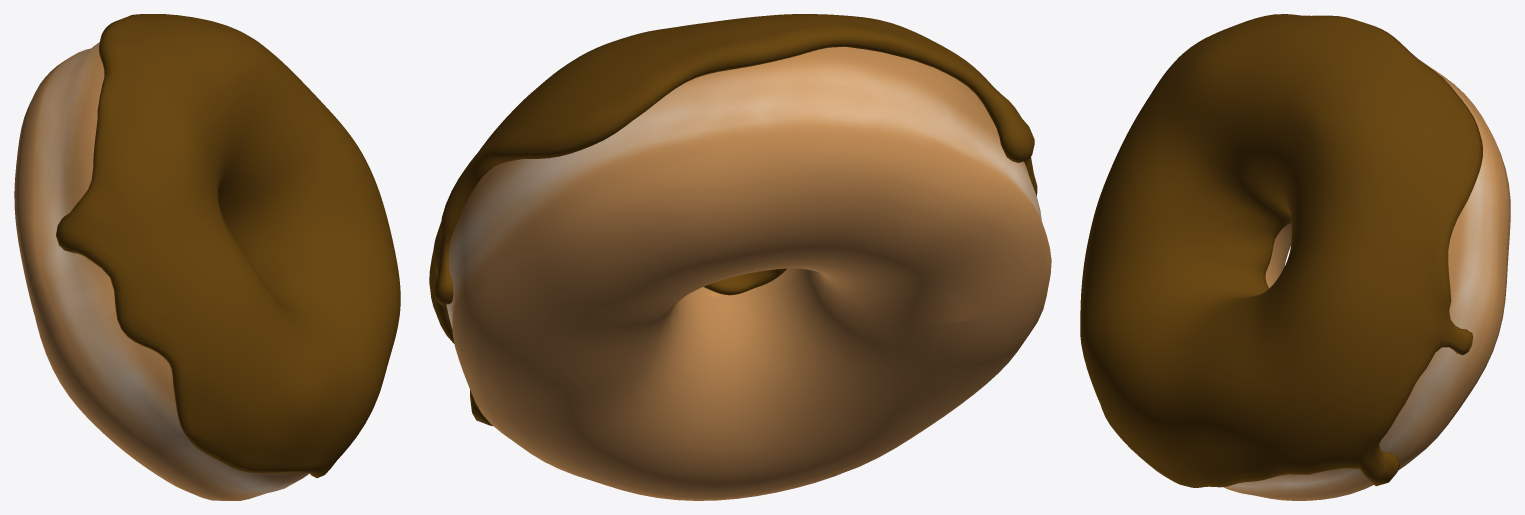
The model's file is Donut1.gltf.
The picture shows the model from 3 angles, left to right: view 1: azimuth 30°, elevation 25°; view 2: azimuth 150°, elevation 25°; view 3: azimuth 270°, elevation 25°; orthographic projection. The views are drawn at different scales.
Visible parts, largest first — view 1: Icing, Donut; view 2: Donut, Icing; view 3: Icing, Donut.
Part boxes in pixels (box(x1,y1,x2,y2)): Icing: box(56, 14, 400, 477); Donut: box(14, 42, 308, 500); Donut: box(446, 46, 1051, 500); Icing: box(429, 14, 1037, 425); Icing: box(1080, 14, 1482, 487); Donut: box(1223, 60, 1510, 500).
Size of the model in its own units: 0.0949 by 0.0951 by 0.0875.
2 materials, 1 textured.
